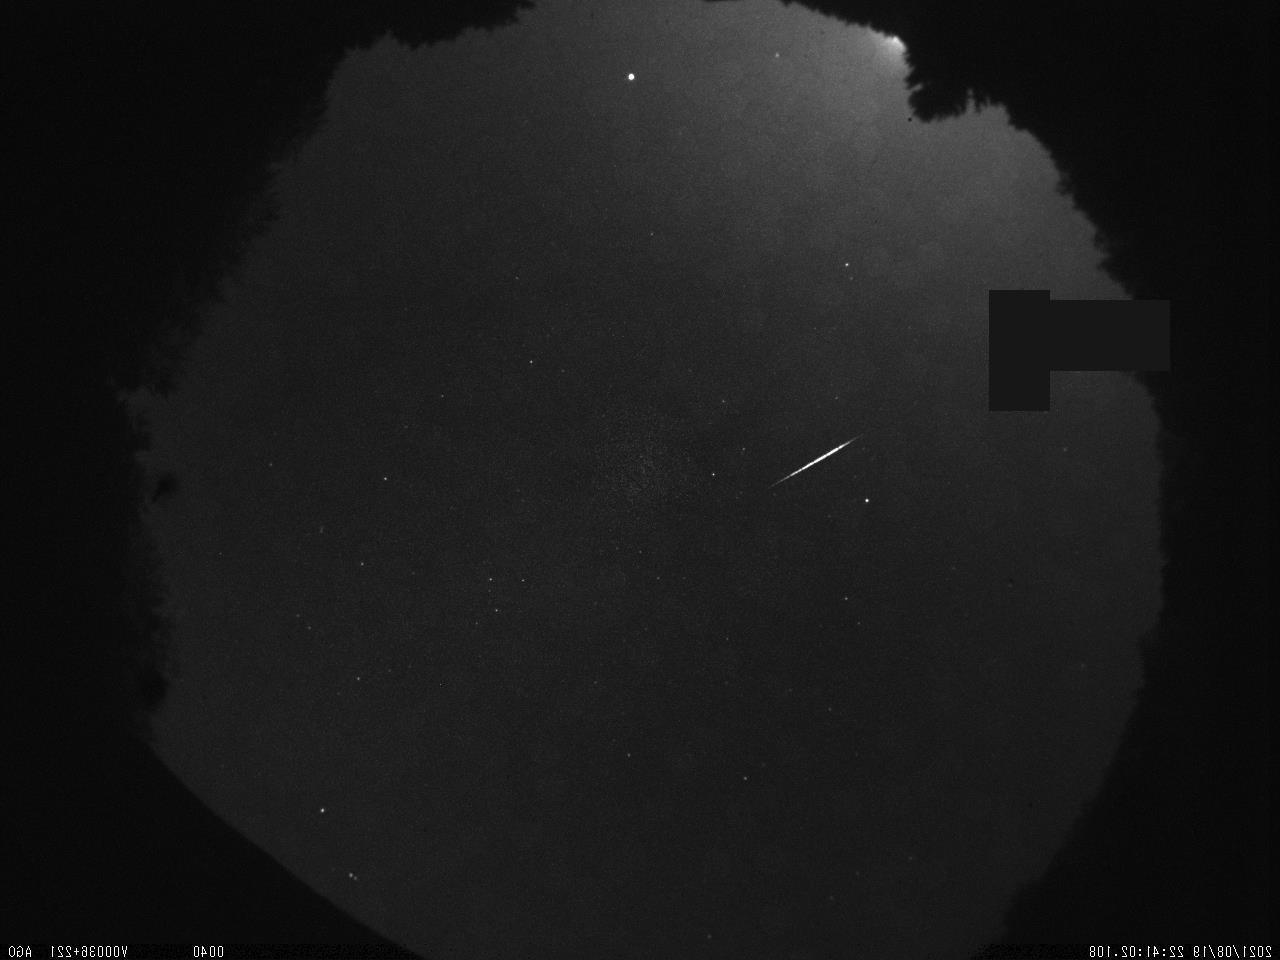meteor: (766, 426, 863, 490)
